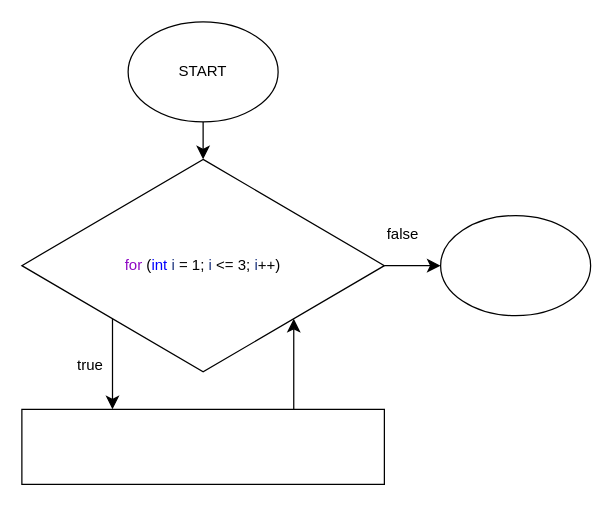
Image size: 613x506. Some labels were removed from this diagram. The centre of each missing label's shape, as x and y in pixels:
Console . WriteLine ( "tere tulemast " + i );: point 202,446
END: point 515,265
